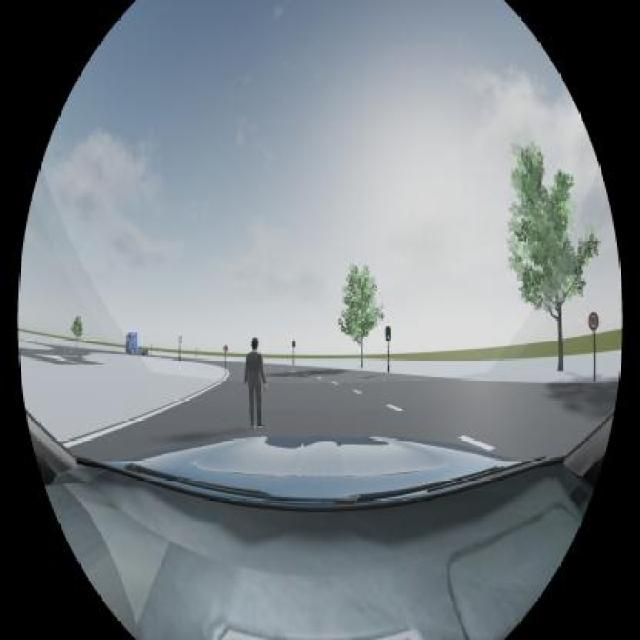forb_speed_over_70: (224, 345, 228, 352)
